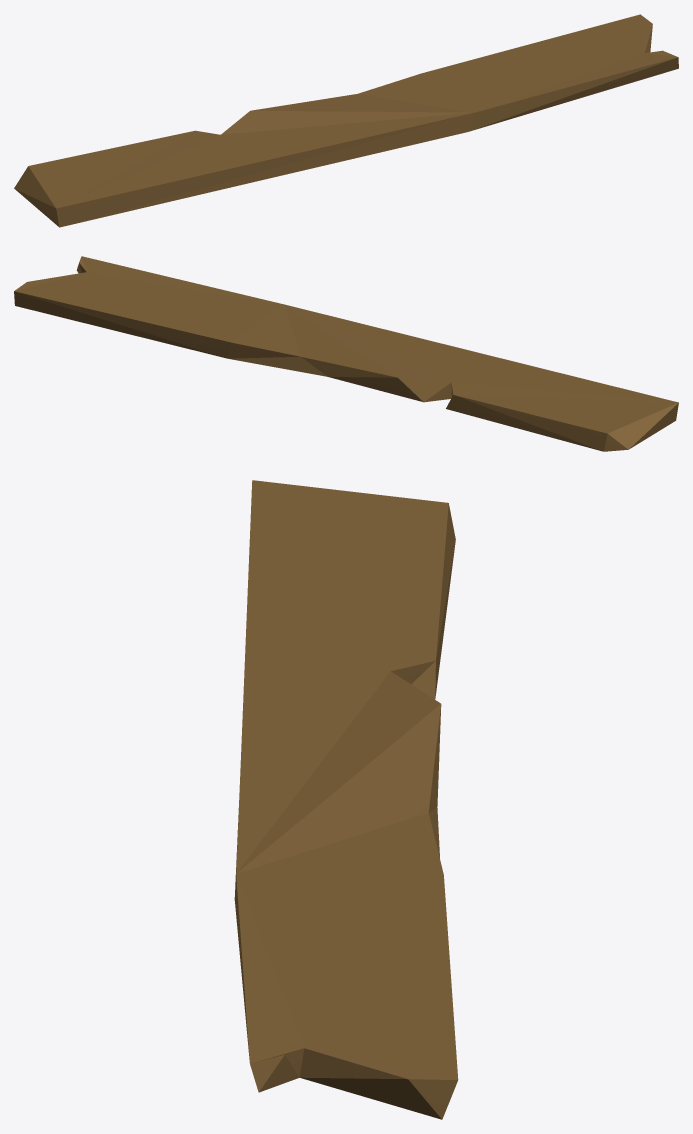
File: Board_06.fbx
3 renders of one model, top to bottom at view 1: azimuth 30°, elevation 25°; view 2: azimuth 150°, elevation 25°; view 3: azimuth 270°, elevation 25°, orthographic. The views are drawn at different scales.
Visible parts, largest first — view 1: Board_06; view 2: Board_06; view 3: Board_06.
Part boxes in pixels (left/top/right/bottom): Board_06: left=14, top=14, right=678, bottom=227; Board_06: left=14, top=256, right=678, bottom=451; Board_06: left=234, top=480, right=458, bottom=1119.
Bounding box in the file's own units: 1.72 × 0.059 × 0.2697.
